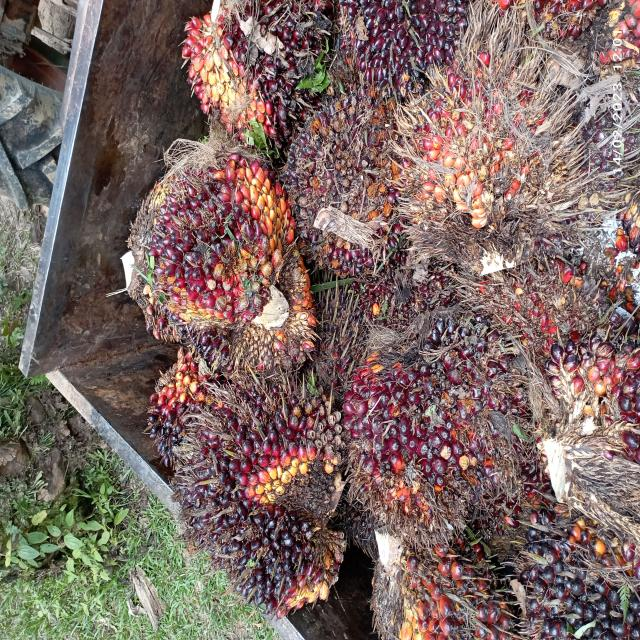fraksi 00: (155, 372, 360, 608), (273, 64, 416, 292), (162, 0, 345, 141), (133, 344, 233, 455)
fraksi 1: (110, 137, 295, 336), (341, 322, 508, 542)
fraksi 4: (368, 45, 571, 254)
